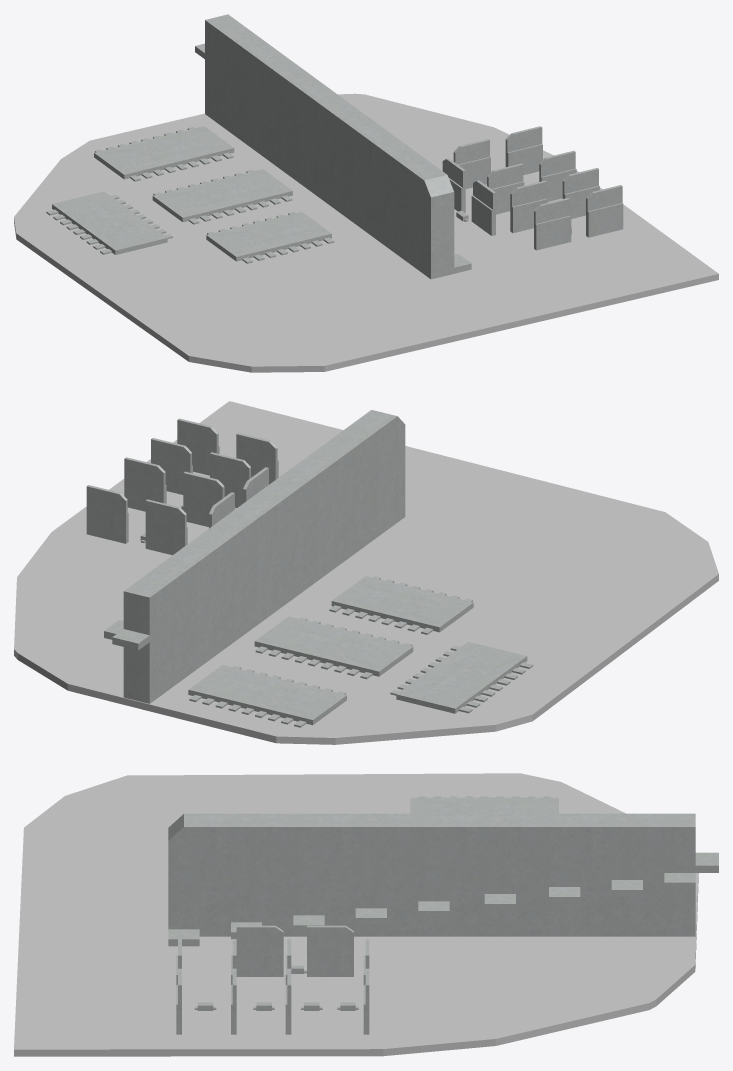
Rendered from fase_01.obj.
3 renders of one model, top to bottom at view 1: azimuth 30°, elevation 25°; view 2: azimuth 150°, elevation 25°; view 3: azimuth 270°, elevation 25°, orthographic. The views are drawn at different scales.
Parts seen in each view (by area): view 1: entity0_brush0, entity2_brush1, entity1_brush0, entity1_brush38, entity1_brush19, entity1_brush57, entity3_brush0, entity3_brush18, entity3_brush12, entity3_brush2, entity3_brush13, entity3_brush6 (+8 smaller); view 2: entity0_brush0, entity2_brush1, entity1_brush38, entity1_brush0, entity1_brush19, entity1_brush57, entity3_brush12, entity3_brush8, entity3_brush14, entity3_brush9, entity3_brush13, entity3_brush15 (+10 smaller); view 3: entity0_brush0, entity2_brush1, entity1_brush19, entity3_brush6, entity3_brush10, entity3_brush7, entity3_brush11, entity2_brush4, entity2_brush0, entity2_brush5, entity2_brush6, entity2_brush7 (+3 smaller).
Part boxes in pixels (x1,y1,x2,y2): entity0_brush0: (14, 93, 718, 372); entity2_brush1: (205, 14, 454, 279); entity1_brush0: (94, 126, 234, 179); entity1_brush38: (152, 169, 292, 222); entity1_brush19: (52, 191, 167, 254); entity1_brush57: (206, 211, 331, 261); entity3_brush0: (534, 215, 571, 250); entity3_brush18: (586, 203, 623, 237); entity3_brush12: (505, 144, 542, 174); entity3_brush2: (510, 198, 547, 233); entity3_brush13: (505, 126, 542, 152); entity3_brush6: (471, 195, 495, 235); entity0_brush0: (14, 401, 718, 744); entity2_brush1: (123, 410, 405, 703); entity1_brush38: (254, 616, 413, 676); entity1_brush0: (188, 665, 346, 725); entity1_brush19: (396, 641, 527, 713); entity1_brush57: (331, 576, 473, 632); entity3_brush12: (86, 505, 128, 543); entity3_brush8: (145, 519, 187, 555); entity3_brush14: (124, 477, 166, 511); entity3_brush9: (145, 499, 186, 528); entity3_brush13: (86, 485, 127, 514); entity3_brush15: (124, 457, 165, 486); entity0_brush0: (14, 773, 698, 1056); entity2_brush1: (168, 813, 695, 936); entity1_brush19: (410, 797, 558, 813); entity3_brush6: (236, 947, 283, 976); entity3_brush10: (307, 947, 353, 976); entity3_brush7: (236, 925, 283, 946); entity3_brush11: (307, 925, 353, 946); entity2_brush4: (355, 908, 386, 925); entity2_brush0: (168, 929, 199, 946); entity2_brush5: (418, 901, 449, 917); entity2_brush6: (484, 894, 515, 910); entity2_brush7: (549, 887, 580, 903).
Bounding box in the file's own units: 1339 × 264 × 1444.
